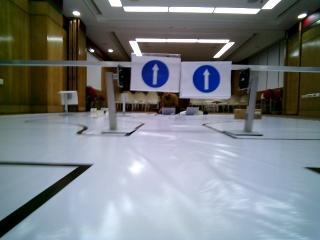straight: (132, 53, 179, 91), (183, 59, 229, 96)
